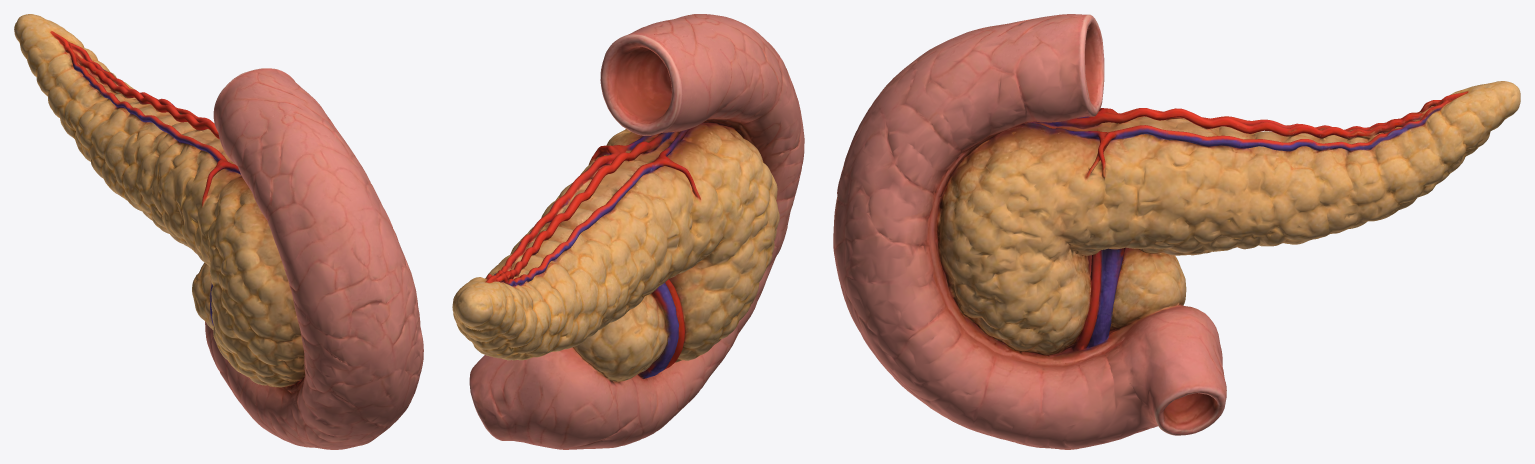
The model's file is pancreas.glb.
The picture shows the model from 3 angles, left to right: view 1: azimuth 30°, elevation 25°; view 2: azimuth 150°, elevation 25°; view 3: azimuth 270°, elevation 25°; orthographic projection. The views are drawn at different scales.
Parts seen in each view (by area): view 1: tripo_node_52edb38a-57be-42be-8aff-6fd8244cd17f; view 2: tripo_node_52edb38a-57be-42be-8aff-6fd8244cd17f; view 3: tripo_node_52edb38a-57be-42be-8aff-6fd8244cd17f.
Boxes of the visible parts, x1=… form: tripo_node_52edb38a-57be-42be-8aff-6fd8244cd17f: x1=14, y1=14, x2=423, y2=449; tripo_node_52edb38a-57be-42be-8aff-6fd8244cd17f: x1=452, y1=14, x2=804, y2=449; tripo_node_52edb38a-57be-42be-8aff-6fd8244cd17f: x1=833, y1=14, x2=1520, y2=449.
Size of the model in its own units: 0.3305 by 0.6453 by 0.9998.
Materials: 1 (1 with a texture image).
